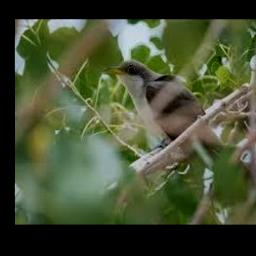Cuckoo: (103, 59, 223, 173)
